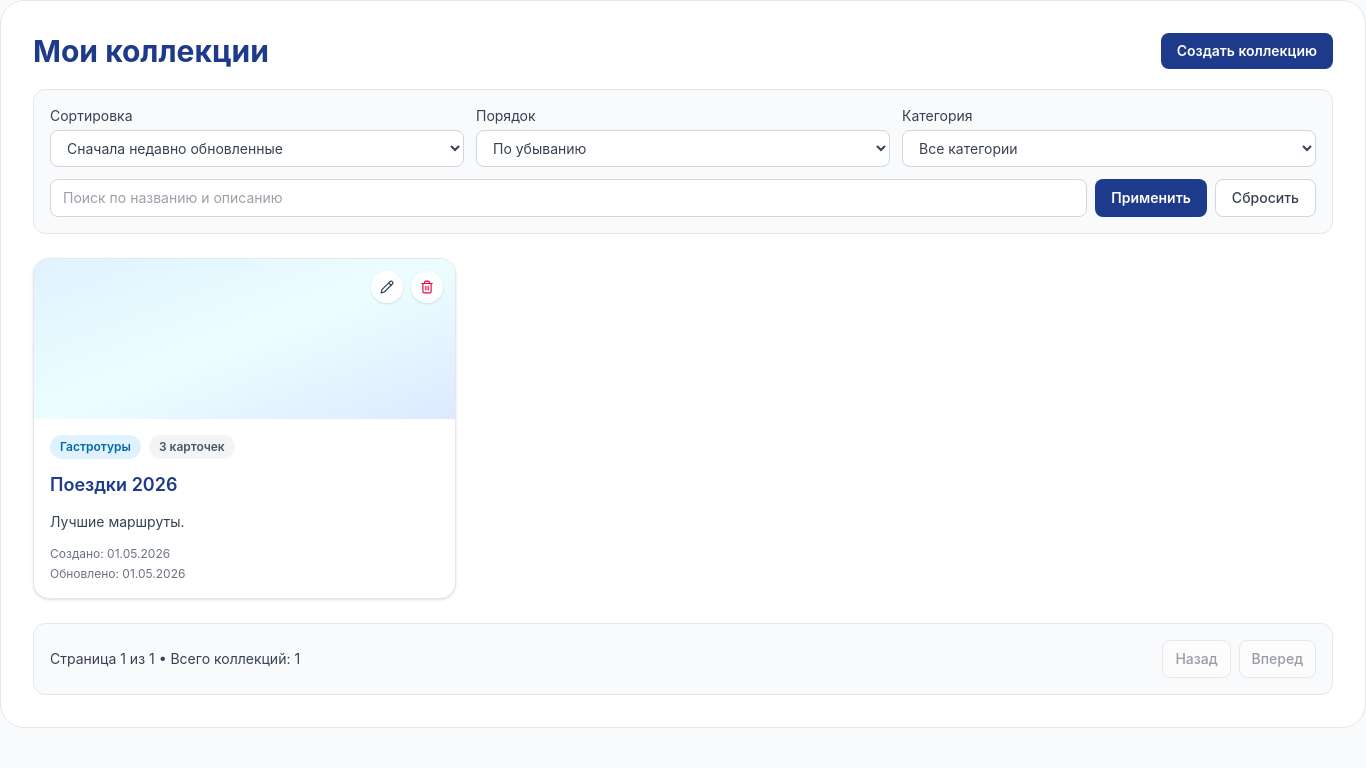
Test: CollectionsPage › opens create collection modal
Expected: the heading "Поездки 2026" is shown, x1=50 y1=474 x2=178 y2=495
Click the button "Создать коллекцию".
click(1247, 51)  # box x1=1161 y1=33 x2=1333 y2=69
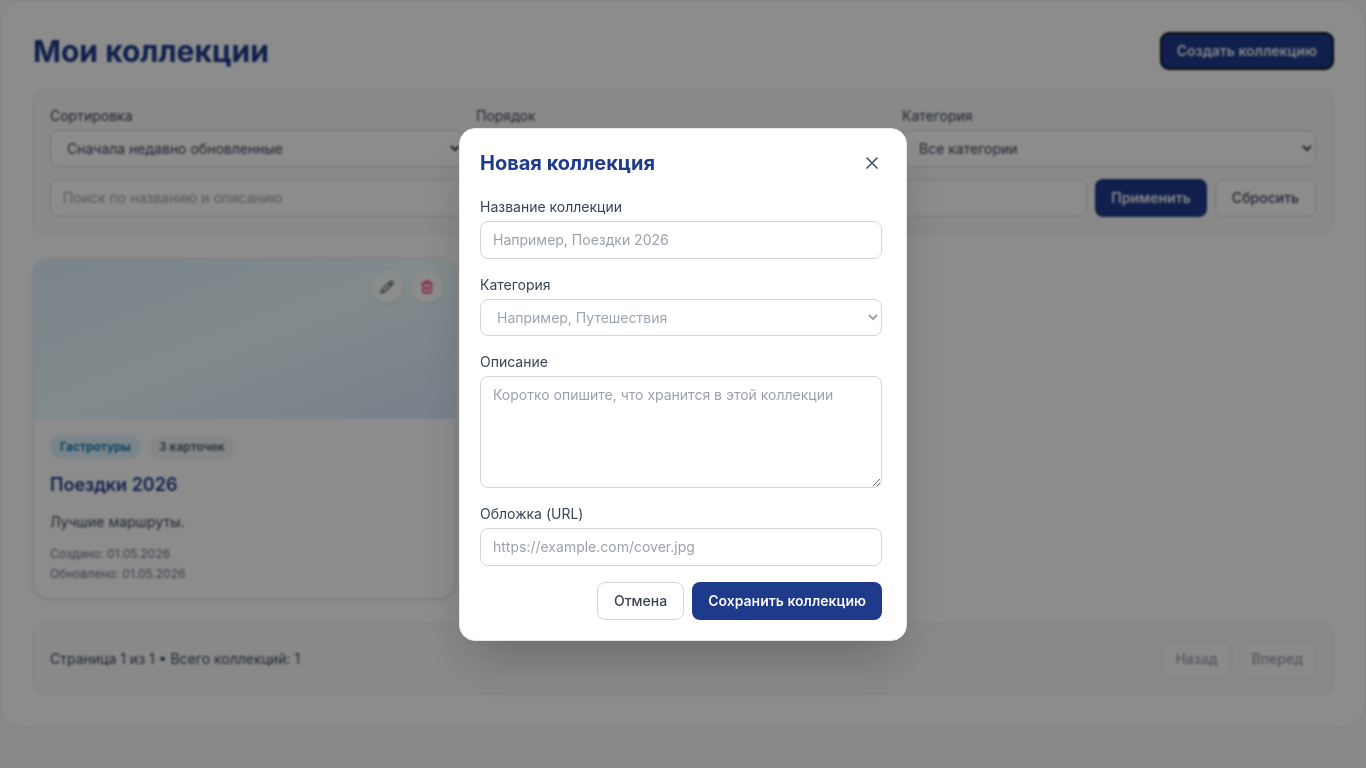
Result: the dialog "Новая коллекция" is shown at x1=459 y1=128 x2=907 y2=640
Result: the field labelled "Название коллекции" is shown at x1=480 y1=220 x2=882 y2=258
Result: the button "Сохранить коллекцию" is enabled at x1=692 y1=582 x2=882 y2=620
